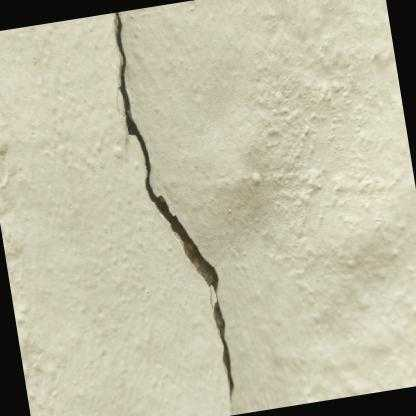crack: (113, 11, 236, 407)
